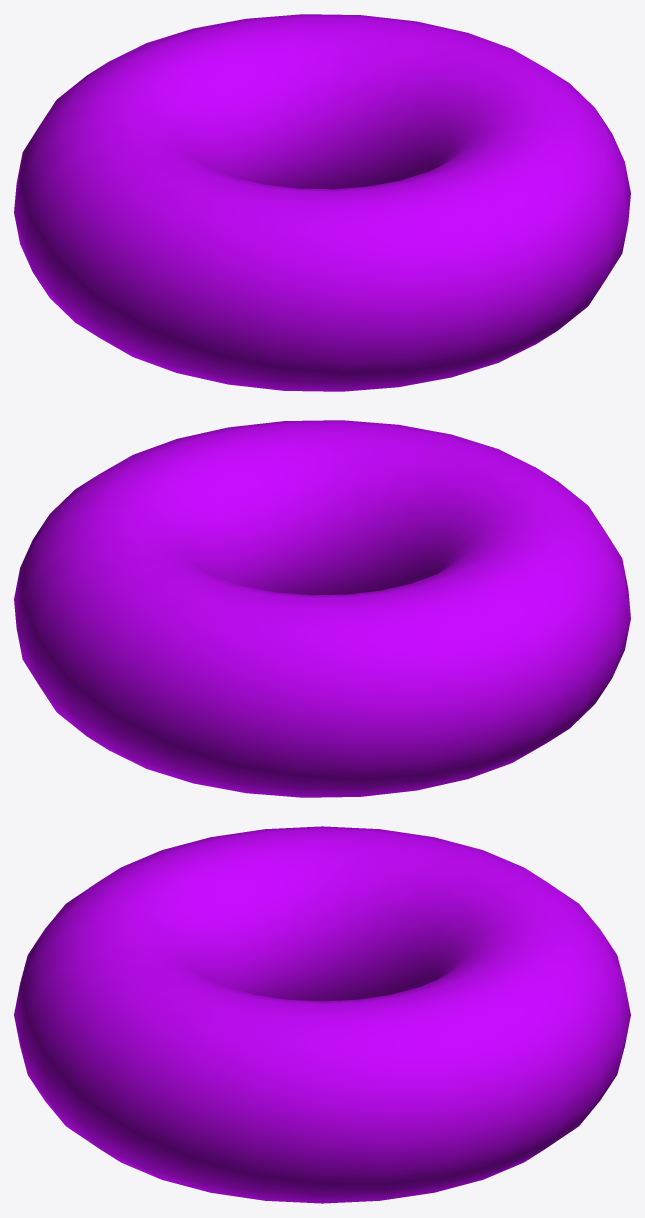
The model's file is Donut.fbx.
The picture shows the model from 3 angles, top to bottom: view 1: azimuth 30°, elevation 25°; view 2: azimuth 150°, elevation 25°; view 3: azimuth 270°, elevation 25°; orthographic projection.
Parts seen in each view (by area): view 1: Donut; view 2: Donut; view 3: Donut.
Boxes of the visible parts, bbox=[...] form: Donut: bbox=[14, 14, 630, 391]; Donut: bbox=[14, 420, 630, 797]; Donut: bbox=[14, 826, 630, 1203].
Size of the model in its own units: 298 by 96.51 by 298.
